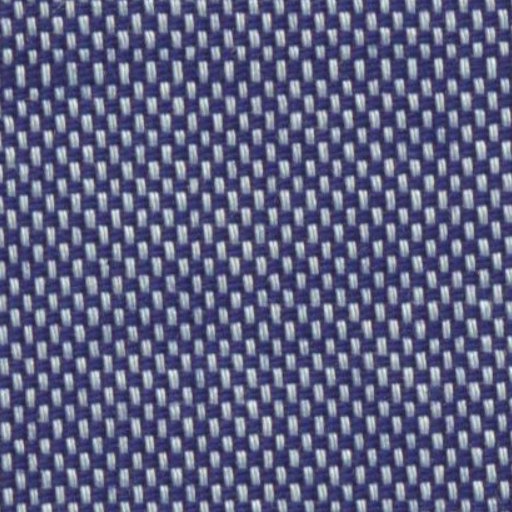TuoSha: (12, 22, 494, 114)
